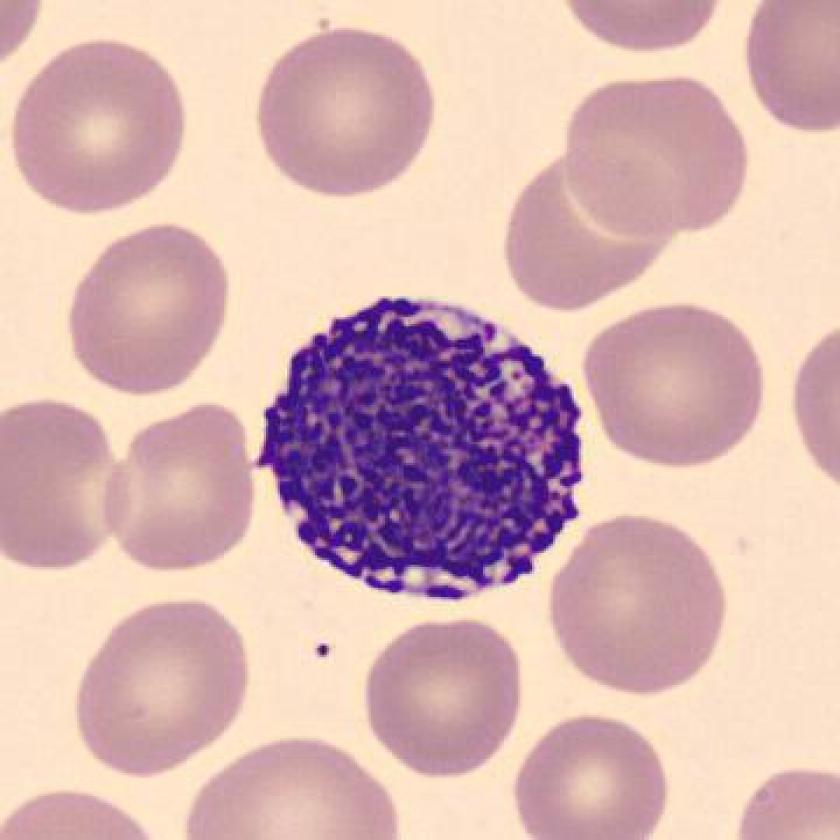basophil: (246, 279, 594, 603)
